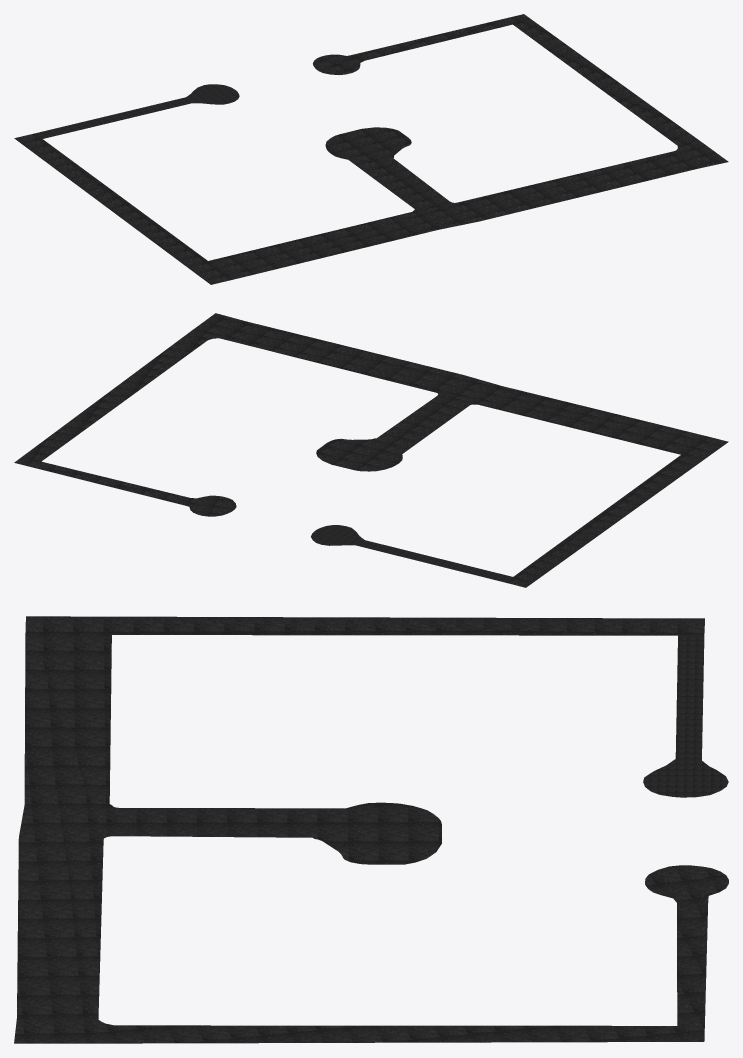
File: CampusRoads_v3.gltf
The picture shows the model from 3 angles, top to bottom: view 1: azimuth 30°, elevation 25°; view 2: azimuth 150°, elevation 25°; view 3: azimuth 270°, elevation 25°; orthographic projection. The views are drawn at different scales.
Parts seen in each view (by area): view 1: Plane; view 2: Plane; view 3: Plane.
Part boxes in pixels (x1,y1,x2,y2): Plane: [14, 14, 728, 284]; Plane: [14, 313, 728, 587]; Plane: [14, 616, 728, 1043].
Size of the model in its own units: 373 by 4.44e-05 by 264.
Materials: 1 (1 with a texture image).
